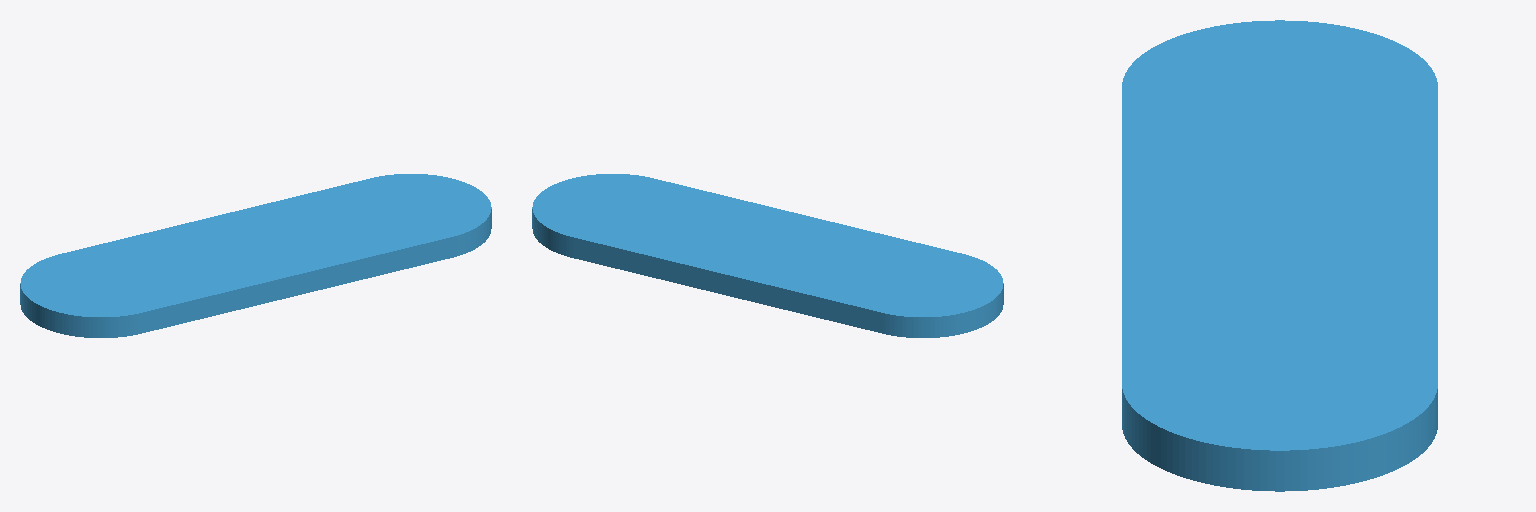
robot.urdf — barbot_test:
<?xml version="1.0"?>
<robot name="barbot_test">

<!-- LINKS -->
  <link name="world">
  </link>

<!-- from stl's -->

  <!-- <link name="link1"> -->
  <!--   <visual> -->
  <!--     <origin rpy="0.0 0 0" xyz="0 0 0" /> -->
  <!--     <geometry> -->
  <!--       <mesh filename="package://bar-bot/mesh/Link0.STL" scale="0.001 0.001 0.001"/> -->
  <!--     </geometry> -->
  <!--   </visual> -->
  <!-- </link> -->
  <!-- <link name="link2"> -->
  <!--   <visual> -->
  <!--     <origin rpy="0.0 0 0" xyz="0 0 0"/> -->
  <!--     <geometry> -->
  <!--       <mesh filename="package://bar-bot/mesh/Link1.STL" scale="0.001 0.001 0.001"/> -->
  <!--     </geometry> -->
  <!--   </visual> -->
  <!-- </link> -->
  <link name="link3">
    <visual>
      <origin rpy="0.0 0 0" xyz="0 0 0"/>
      <geometry>
        <mesh filename="package://bar-bot/mesh/Link2.STL" scale="0.001 0.001 0.001"/>
      </geometry>
    </visual>
  </link>
  <link name="link4">
    <visual>
      <origin rpy="0.0 0 0" xyz="0 0 0"/>
      <geometry>
        <mesh filename="package://bar-bot/mesh/Link3.STL" scale="0.001 0.001 0.001"/>
      </geometry>
    </visual>
  </link>
  <!-- <link name="link5"> -->
  <!--   <visual> -->
  <!--     <origin rpy="0.0 0 0" xyz="0 0 0"/> -->
  <!--     <geometry> -->
  <!--       <mesh filename="package://bar-bot/mesh/Link4_5.STL" scale="0.001 0.001 0.001"/> -->
  <!--     </geometry> -->
  <!--   </visual> -->
  <!-- </link> -->
  <!-- <link name="link6"> -->
  <!--   <visual> -->
  <!--     <origin rpy="0.0 0 0" xyz="0 0 0"/> -->
  <!--     <geometry> -->
  <!--       <mesh filename="package://bar-bot/mesh/Link4_5.STL" scale="0.001 0.001 0.001"/> -->
  <!--     </geometry> -->
  <!--   </visual> -->
  <!-- </link> -->

<!-- JOINTS -->
  <joint name="world_joint" type="fixed">
    <parent link="world"/>
    <child link="link3"/>
    <origin xyz ="0 0 0" rpy="0 0 0" />
    <axis xyz="0 0 1" />
  </joint>

  <!-- <joint name="joint1" type="continuous"> -->
  <!--   <child link="link2"/> -->
  <!--   <origin xyz ="0 0 0.0311" rpy="0 0 0" /> -->
  <!--   <axis xyz="0 0 1" /> -->
  <!-- </joint> -->

  <!-- <joint name="joint2" type="continuous"> -->
  <!--   <child link="link3"/> -->
  <!--   <origin xyz ="0.0611 0 0.050" rpy="0 -1.570796 -0.78539816" /> -->
  <!--   <axis xyz="0 1 0" /> -->
  <!-- </joint> -->

  <joint name="joint3" type="continuous">
    <parent link="link3"/>
    <child link="link4"/>
    <origin xyz ="0.15556 0 -0.0311" rpy="3.1415926 0 -1.570796" />
    <axis xyz="0 0 1" />
  </joint>

  <!-- <joint name="joint4" type="continuous"> -->
  <!--   <parent link="link4"/> -->
  <!--   <child link="link5"/> -->
  <!--   <origin xyz ="0.14142 0 -0.0311" rpy="3.1415926 0 -0.78539816" /> -->
  <!--   <axis xyz="0 0 1" /> -->
  <!-- </joint> -->

  <!-- GRIPPER -->
  <!-- <joint name="joint5" type="revolute"> -->
  <!-- <joint name="joint5" type="continuous"> -->
  <!--   <parent link="link5"/> -->
  <!--   <child link="link6"/> -->
  <!--   <origin xyz ="0.0811 0 0" rpy="0 0 0" /> -->
  <!--   <axis xyz="1 0 0" /> -->
  <!-- </joint> -->

</robot>

--- Facts derived from the render (not from the file) ---
3 views of the same robot in one strip: view 1: azimuth 30°, elevation 25°; view 2: azimuth 150°, elevation 25°; view 3: azimuth 270°, elevation 25° (orthographic).
Model barbot_test with 3 links and 2 joints (1 continuous, 1 fixed), rooted at world, posed every joint at zero.
Visible links, largest first — view 1: link3; view 2: link3; view 3: link3.
Boxes of the visible links, x1,y1,x2,y2 form: link3: (20, 174, 491, 337); link3: (532, 174, 1003, 337); link3: (1122, 20, 1437, 491).
Size in the robot's own frame: 0.2255 by 0.07 by 0.01 metres.
1 mesh visuals loaded from 2 distinct referenced files (1 binary STL); not drawn: 1 (reference not matched to a file when rendering).